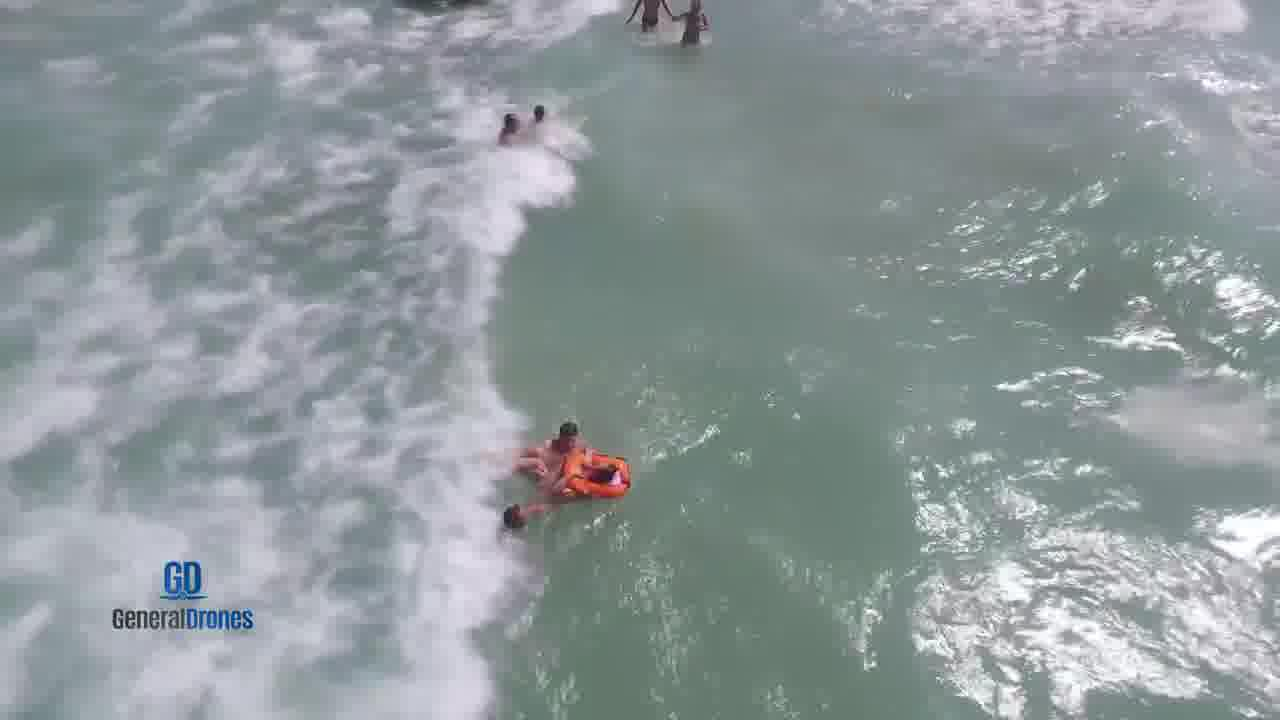swimmer: (627, 0, 728, 38), (488, 509, 545, 547), (524, 88, 562, 130), (492, 106, 522, 152), (585, 468, 647, 490), (550, 413, 596, 440)
